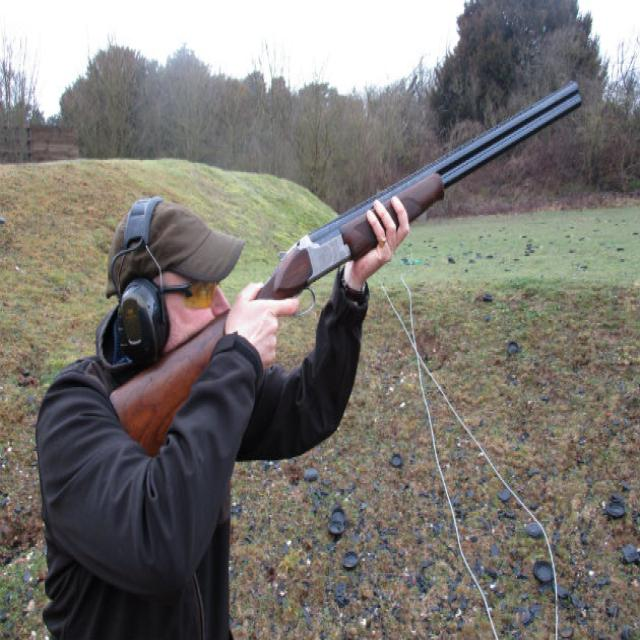ShotGun: (109, 82, 582, 457)
